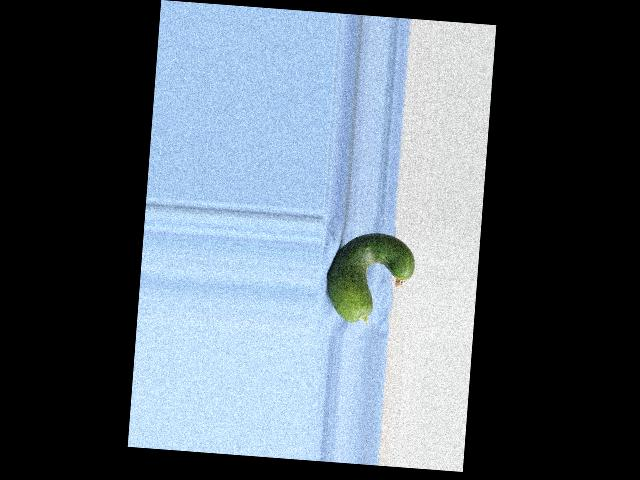cucumber: (324, 229, 416, 327)
